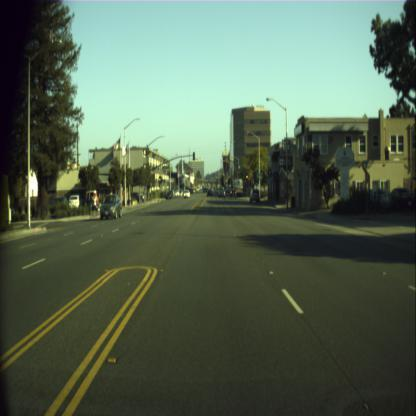Red: (245, 172, 248, 180)
Yellow: (223, 156, 225, 164), (159, 176, 161, 183)
